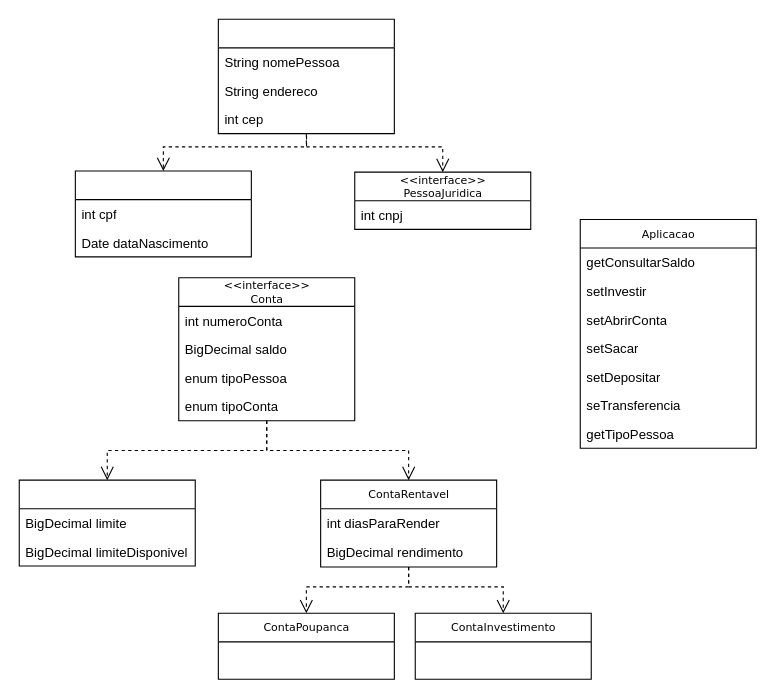
This 776x699 diagram has some shape labels left out. The box of each missing label's shape, as (x1, y1, x2, y2) in pixels:
<<interface>> Pessoa: (217, 18, 394, 134)
<<interface>> PessoaFisica: (74, 170, 251, 257)
ContaCorrente: (18, 479, 195, 566)
